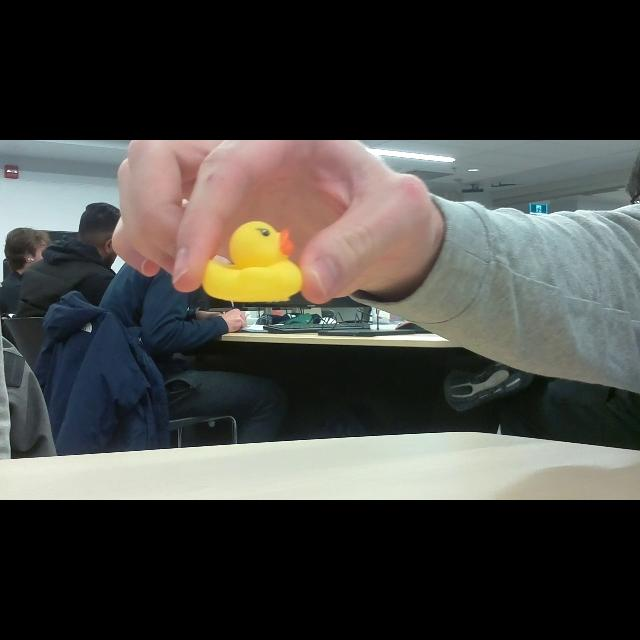duck_regular: (204, 221, 304, 309)
